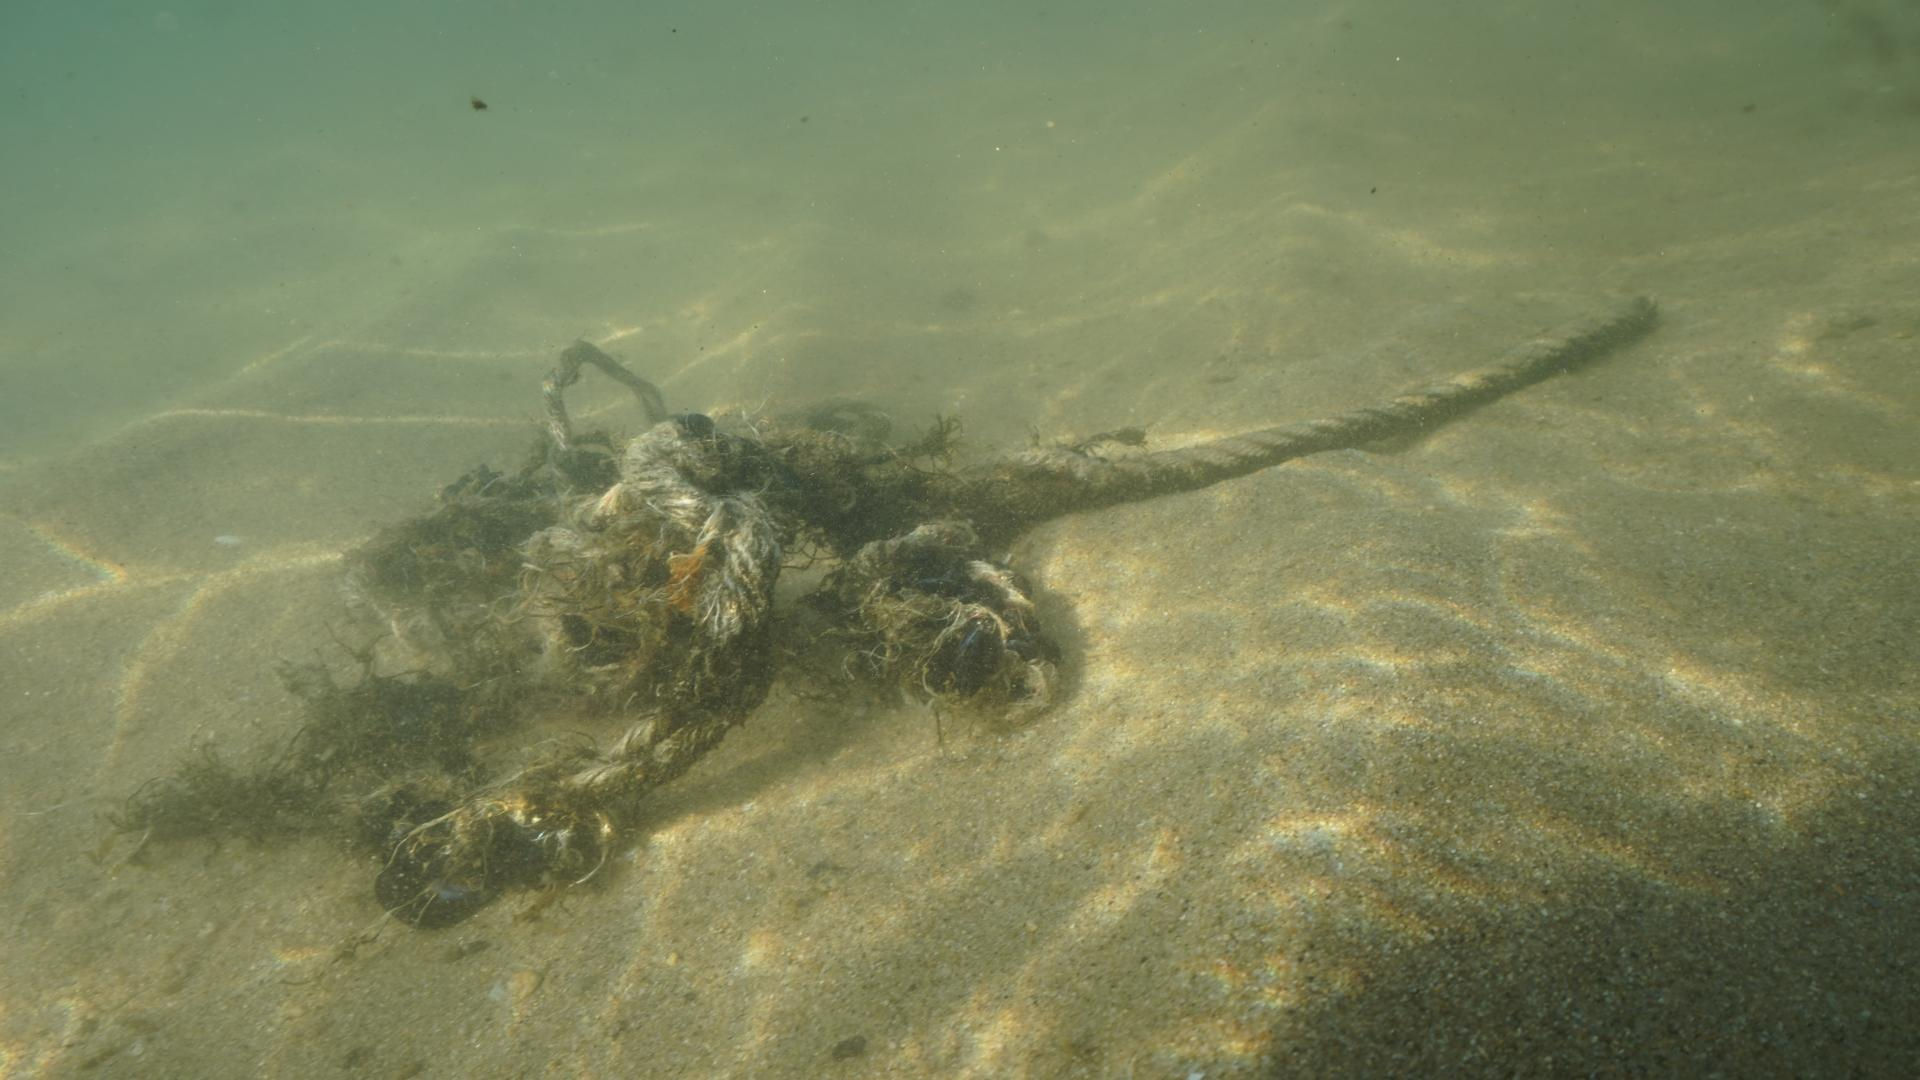rope: (977, 305, 1636, 527)
